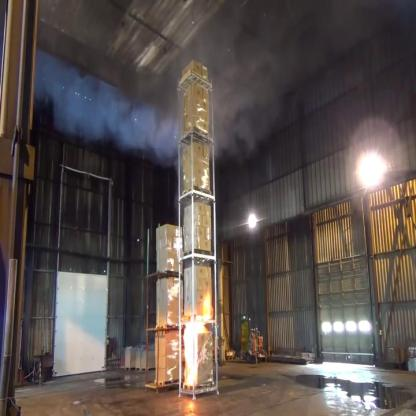fire: (183, 290, 214, 391)
